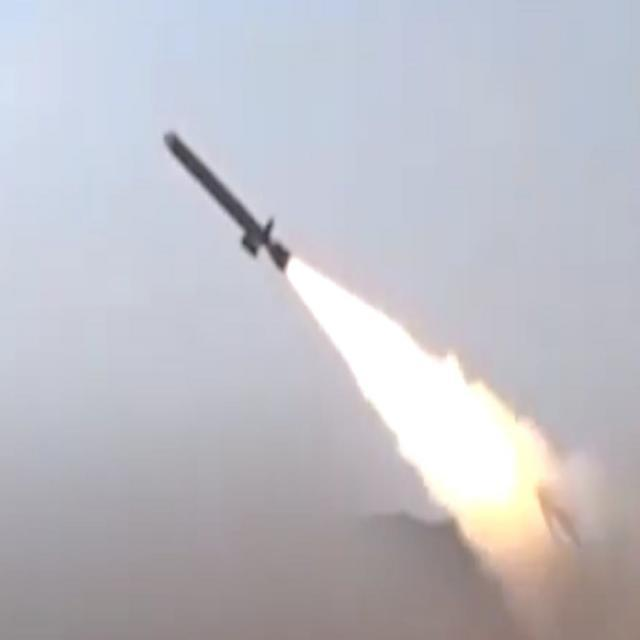Missile: (162, 125, 303, 293)
